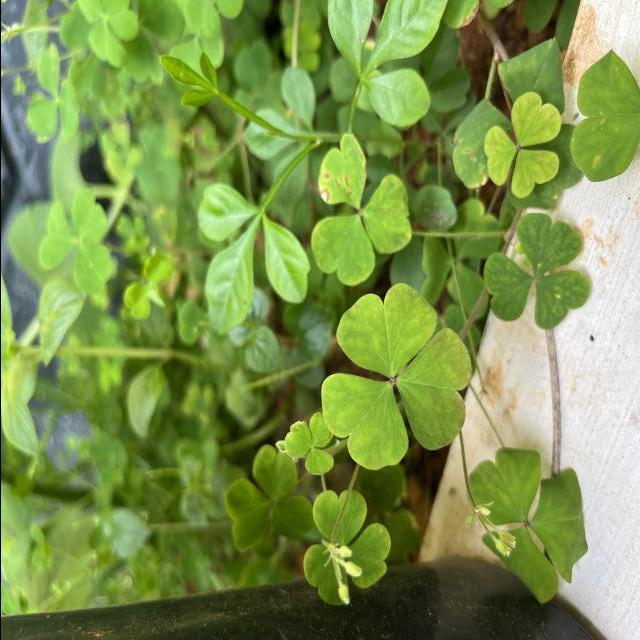Oxalis corniculata: (318, 280, 472, 473), (308, 132, 412, 287), (480, 210, 590, 332), (223, 440, 313, 554), (481, 90, 562, 200), (283, 410, 334, 476)
